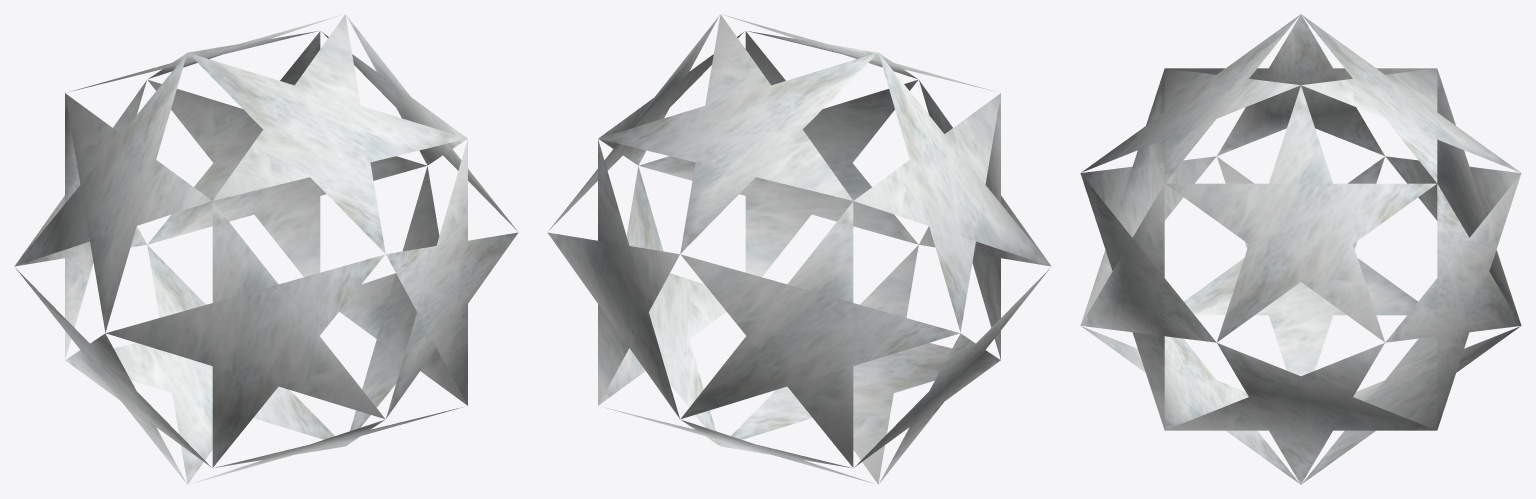
File: SmallDitrigonalIcosidodecahedronA.gltf
3 views of the same model, side by side, from view 1: azimuth 30°, elevation 25°; view 2: azimuth 150°, elevation 25°; view 3: azimuth 270°, elevation 25° (orthographic). The views are drawn at different scales.
Visible parts, largest first — view 1: SmallDitrigonalIcosidodecahedron; view 2: SmallDitrigonalIcosidodecahedron; view 3: SmallDitrigonalIcosidodecahedron.
Boxes of the visible parts, <box> form: SmallDitrigonalIcosidodecahedron: <box>14,14,518,484</box>; SmallDitrigonalIcosidodecahedron: <box>547,14,1051,484</box>; SmallDitrigonalIcosidodecahedron: <box>1080,14,1521,484</box>.
Bounding box in the file's own units: 1.62 × 1.62 × 1.62.
1 material, 1 textured.
